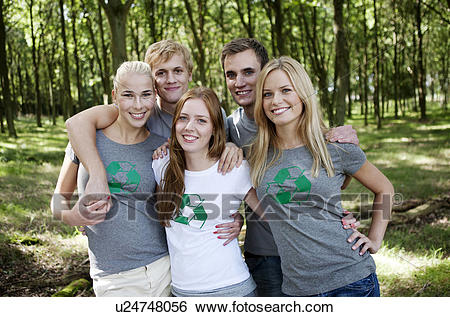person: (253, 61, 356, 207), (160, 90, 244, 216), (86, 60, 166, 167)
